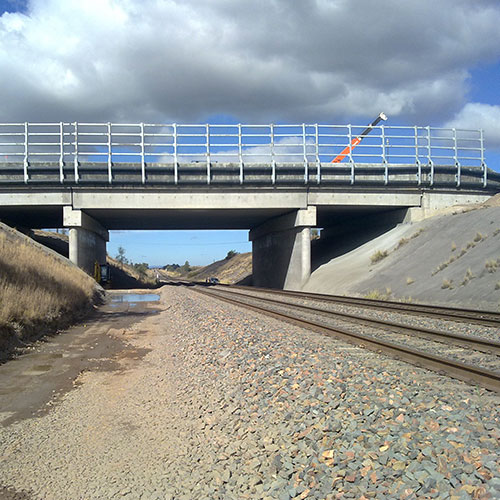bridge: (1, 121, 500, 240)
